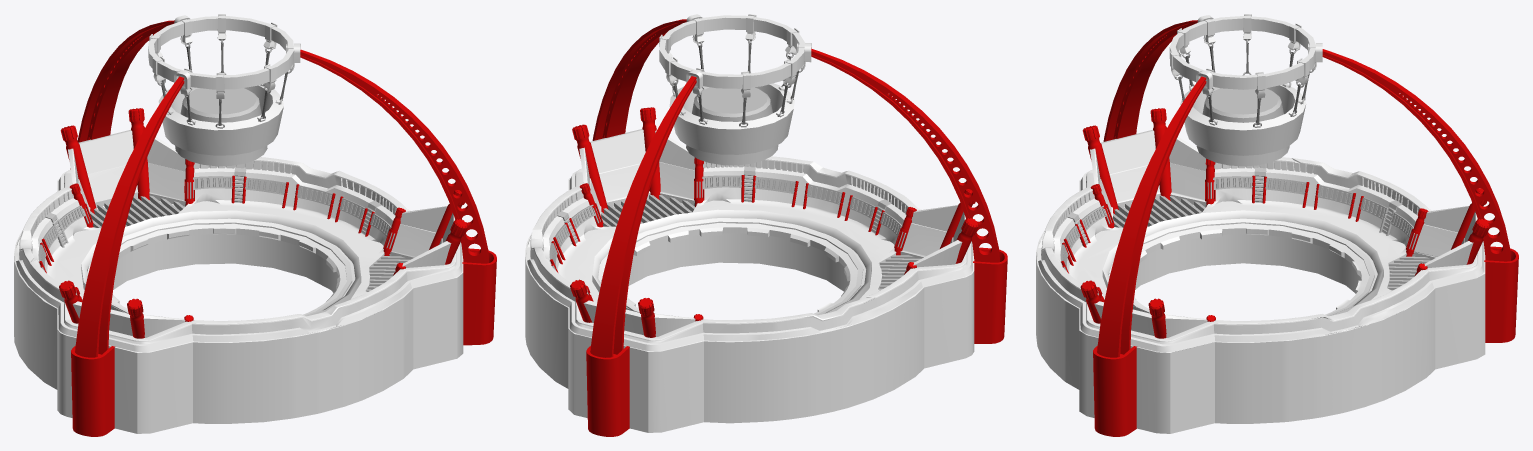
Rendered from arena_triangle.fbx.
The picture shows the model from 3 angles, left to right: view 1: azimuth 30°, elevation 25°; view 2: azimuth 150°, elevation 25°; view 3: azimuth 270°, elevation 25°; orthographic projection.
Parts seen in each view (by area): view 1: base, structuralsupport, details, ringinner, top1; view 2: base, structuralsupport, details, ringinner, top1; view 3: base, structuralsupport, details, ringinner, top1.
Part boxes in pixels (<box>): base: <box>14,157,463,433</box>; structuralsupport: <box>70,20,496,436</box>; details: <box>38,108,468,338</box>; ringinner: <box>81,210,361,316</box>; top1: <box>148,14,300,166</box>; base: <box>525,156,974,432</box>; structuralsupport: <box>586,19,1007,436</box>; details: <box>549,107,979,337</box>; ringinner: <box>592,209,871,315</box>; top1: <box>659,14,811,165</box>; base: <box>1036,157,1485,433</box>; structuralsupport: <box>1093,20,1518,436</box>; details: <box>1060,108,1490,338</box>; ringinner: <box>1102,210,1383,316</box>; top1: <box>1169,14,1322,166</box>.
Size of the model in its own units: 38.31 by 25.54 by 38.2.
